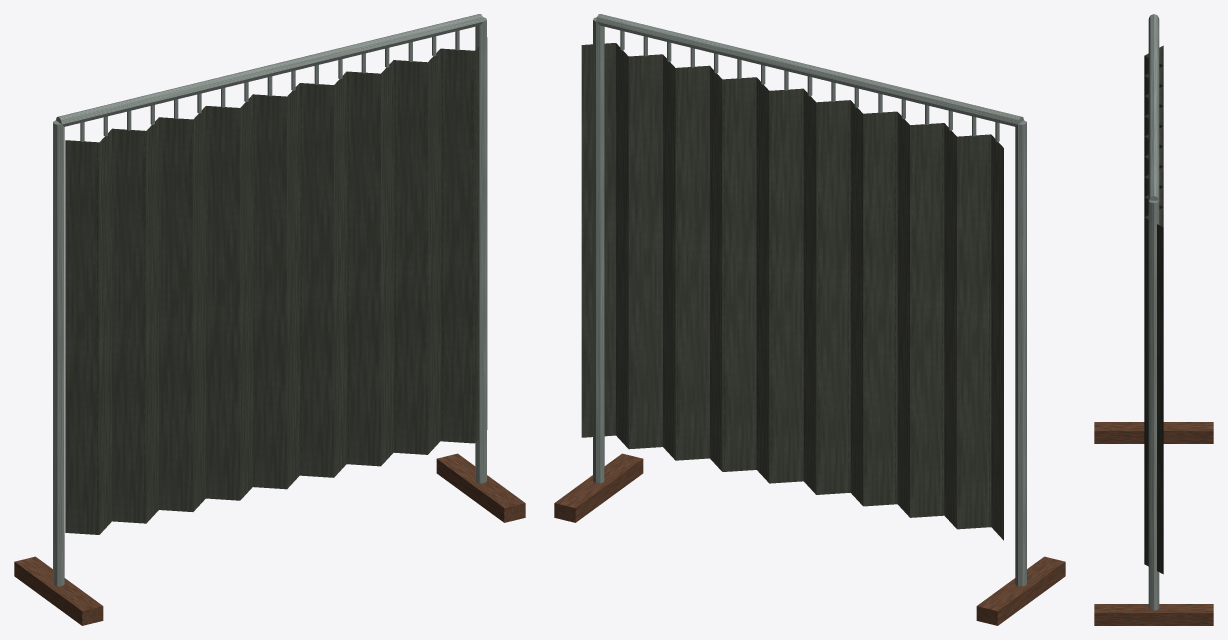
Rendered from HospitalCurtain.glb.
The picture shows the model from 3 angles, left to right: view 1: azimuth 30°, elevation 25°; view 2: azimuth 150°, elevation 25°; view 3: azimuth 270°, elevation 25°; orthographic projection. The views are drawn at different scales.
Visible parts, largest first — view 1: HospitalCurtain; view 2: HospitalCurtain; view 3: HospitalCurtain.
Part boxes in pixels (left/top/right/bottom): HospitalCurtain: left=14, top=14, right=525, bottom=625; HospitalCurtain: left=554, top=14, right=1065, bottom=625; HospitalCurtain: left=1094, top=14, right=1213, bottom=625.
Size of the model in its own units: 1.89 by 1.97 by 0.5.
3 materials, 3 textured.
